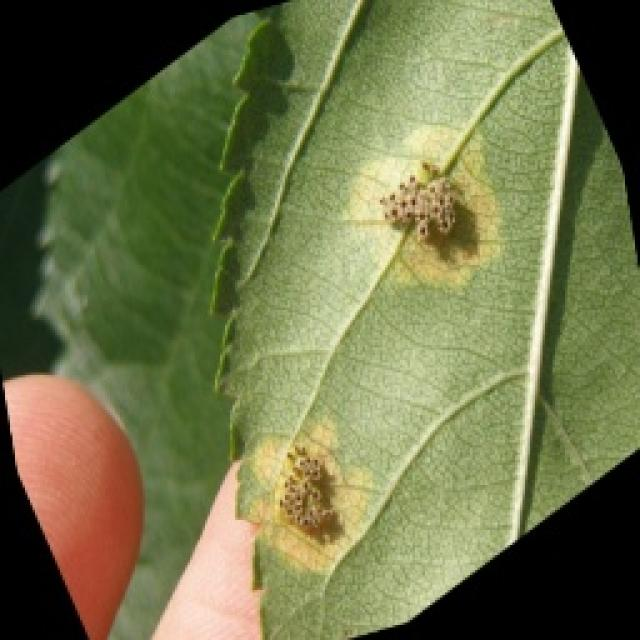Gymnosporangium_Rusts: (240, 92, 514, 616)
